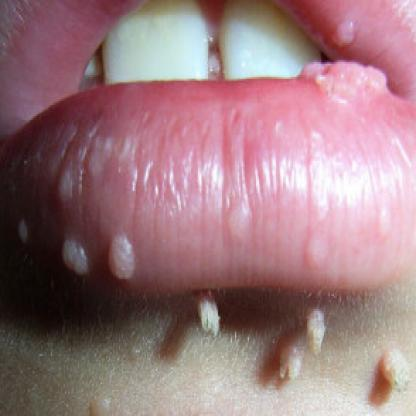Warts: (272, 297, 335, 382), (183, 277, 228, 347), (100, 223, 146, 291), (370, 344, 416, 409), (49, 232, 100, 286)
